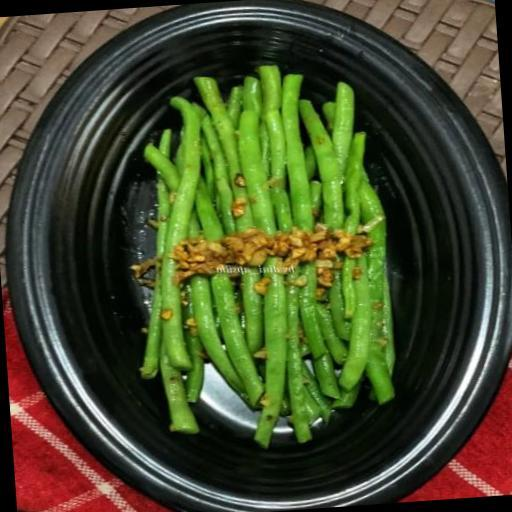buncis_rebus: (100, 45, 423, 472)
